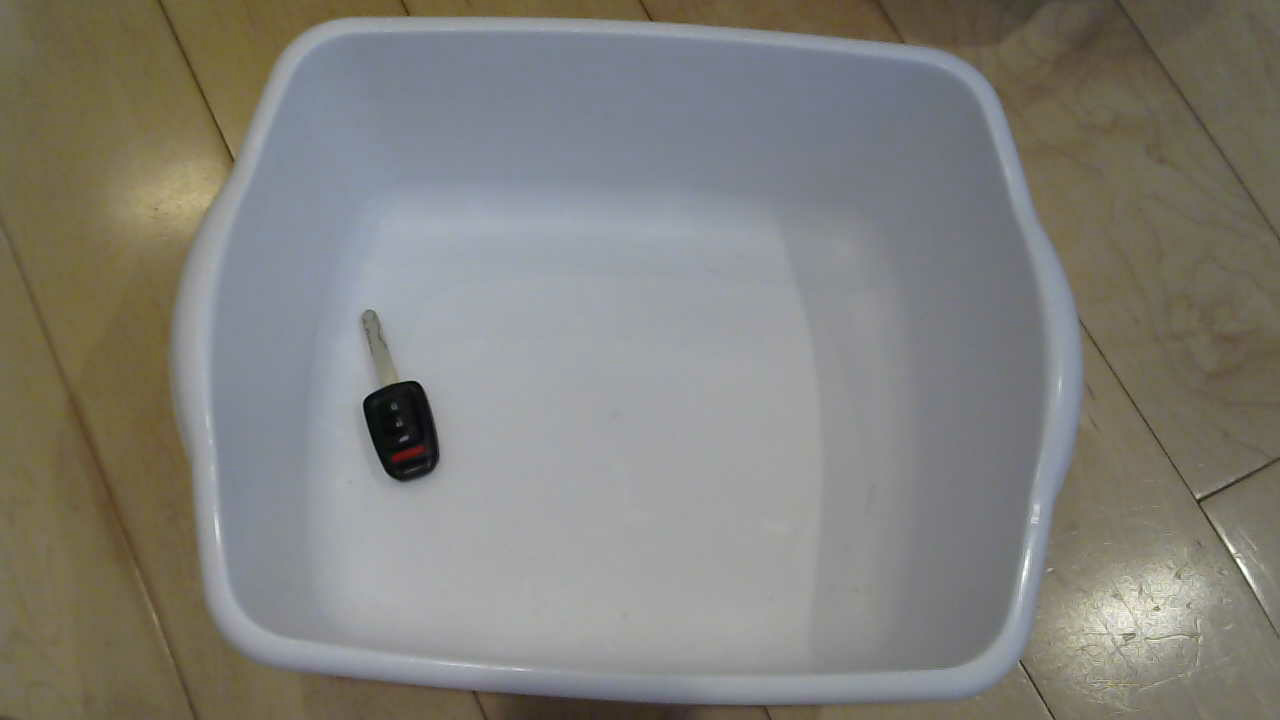key: (310, 303, 464, 495)
